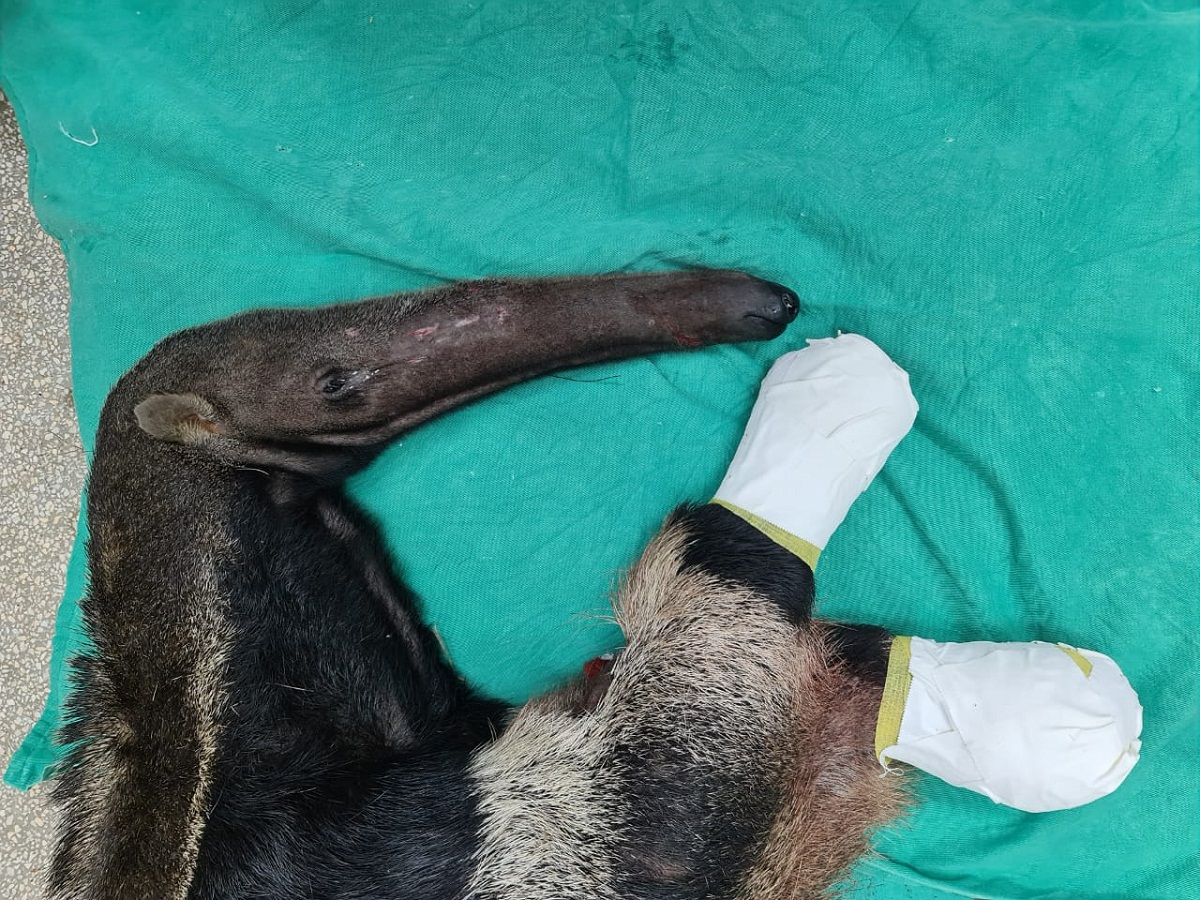TamanduaBandeira: (28, 251, 1159, 886)
